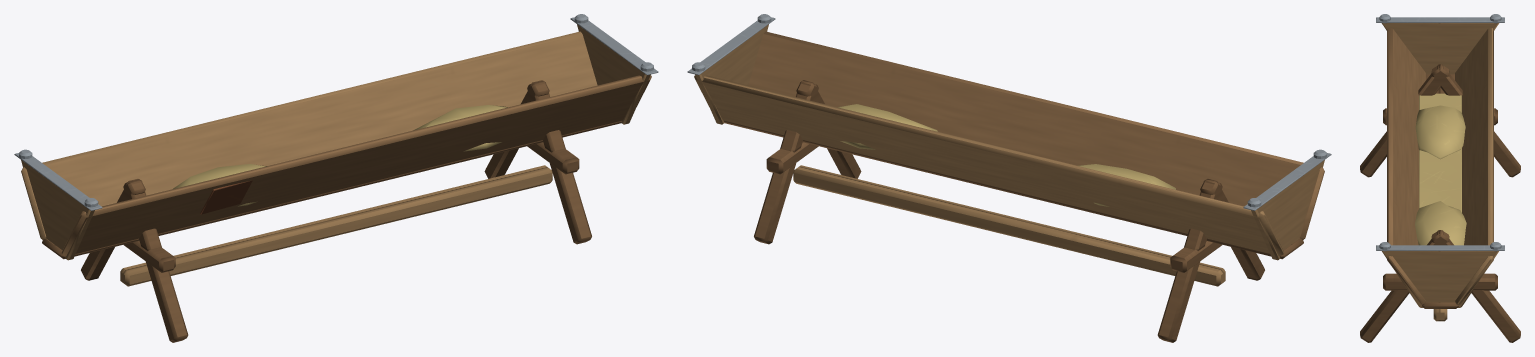
Rendered from feed_trough.glb.
3 renders of one model, left to right at view 1: azimuth 30°, elevation 25°; view 2: azimuth 150°, elevation 25°; view 3: azimuth 270°, elevation 25°, orthographic. The views are drawn at different scales.
Visible parts, largest first — view 1: feed_trough; view 2: feed_trough; view 3: feed_trough.
Part boxes in pixels (x1,y1,x2,y2): feed_trough: [14, 14, 658, 342]; feed_trough: [687, 14, 1331, 342]; feed_trough: [1360, 14, 1520, 342].
Size of the model in its own units: 2.4 by 0.6165 by 0.6977.
7 materials, 7 textured.
